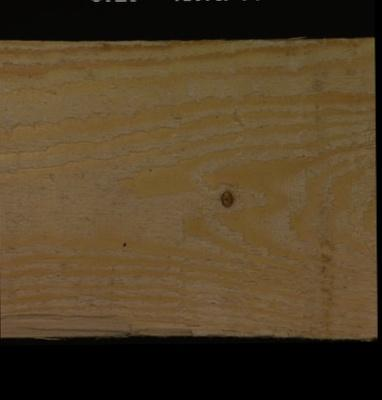dry_knot: (216, 185, 234, 209)
wave: (40, 316, 200, 342)
